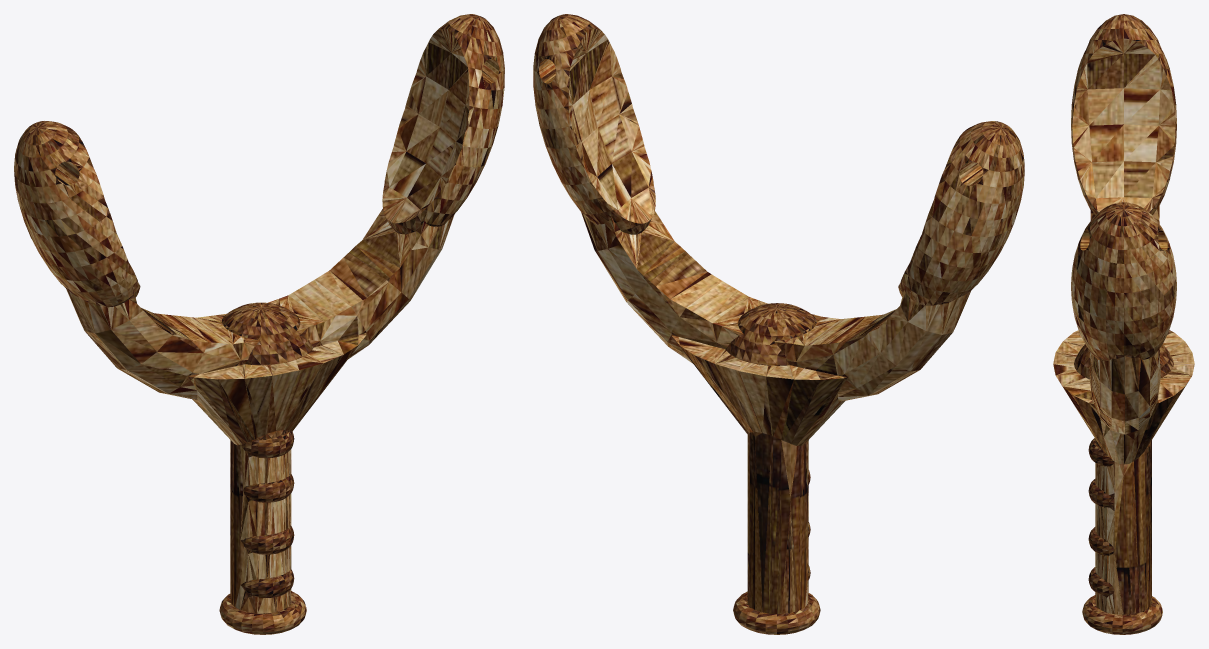
File: SLING_SHOT.fbx
3 views of the same model, side by side, from view 1: azimuth 30°, elevation 25°; view 2: azimuth 150°, elevation 25°; view 3: azimuth 270°, elevation 25° (orthographic). The views are drawn at different scales.
Parts seen in each view (by area): view 1: SLING_SHOT; view 2: SLING_SHOT; view 3: SLING_SHOT.
Boxes of the visible parts, x1,y1,x2,y2 form: SLING_SHOT: (14,14,504,634); SLING_SHOT: (533,14,1024,634); SLING_SHOT: (1053,14,1194,634).
Bounding box in the file's own units: 56.4 × 62.31 × 15.66.
1 material, 1 textured.
